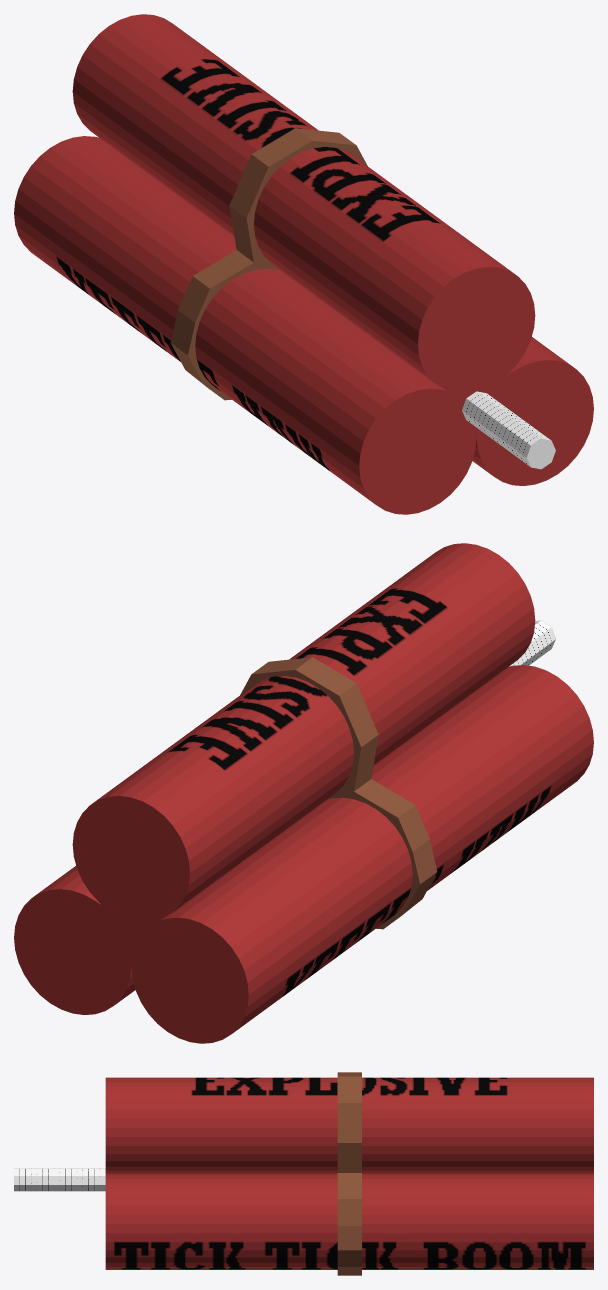
The model's file is Dynamite.fbx.
3 views of the same model, one above another, from view 1: azimuth 30°, elevation 25°; view 2: azimuth 150°, elevation 25°; view 3: azimuth 270°, elevation 25° (orthographic). The views are drawn at different scales.
Parts seen in each view (by area): view 1: Cylinder; view 2: Cylinder; view 3: Cylinder.
Boxes of the visible parts, x1,y1,x2,y2 form: Cylinder: (14,14,593,514); Cylinder: (14,543,593,1043); Cylinder: (14,1072,593,1275).
Size of the model in its own units: 44.2 by 41.6 by 126.
